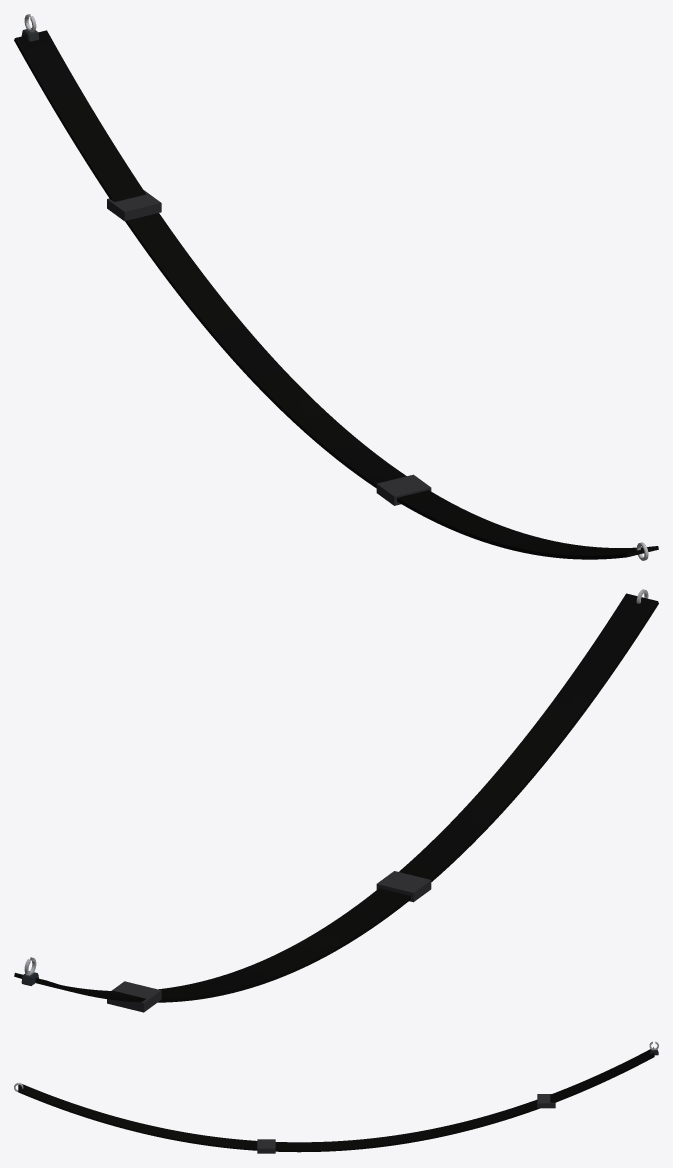
File: bandoleira.glb
The picture shows the model from 3 angles, top to bottom: view 1: azimuth 30°, elevation 25°; view 2: azimuth 150°, elevation 25°; view 3: azimuth 270°, elevation 25°; orthographic projection. The views are drawn at different scales.
Visible parts, largest first — view 1: bandoleira_nylon, bandoleira_polimero; view 2: bandoleira_nylon, bandoleira_polimero; view 3: bandoleira_nylon, bandoleira_polimero.
Part boxes in pixels (x1,y1,x2,y2): bandoleira_nylon: [14, 30, 658, 559]; bandoleira_polimero: [107, 190, 431, 505]; bandoleira_nylon: [14, 593, 658, 1002]; bandoleira_polimero: [107, 871, 431, 1012]; bandoleira_nylon: [18, 1047, 654, 1152]; bandoleira_polimero: [257, 1094, 555, 1153].
Bounding box in the file's own units: 0.029 × 0.1543 × 0.8424.
Materials: 4 (1 with a texture image).
